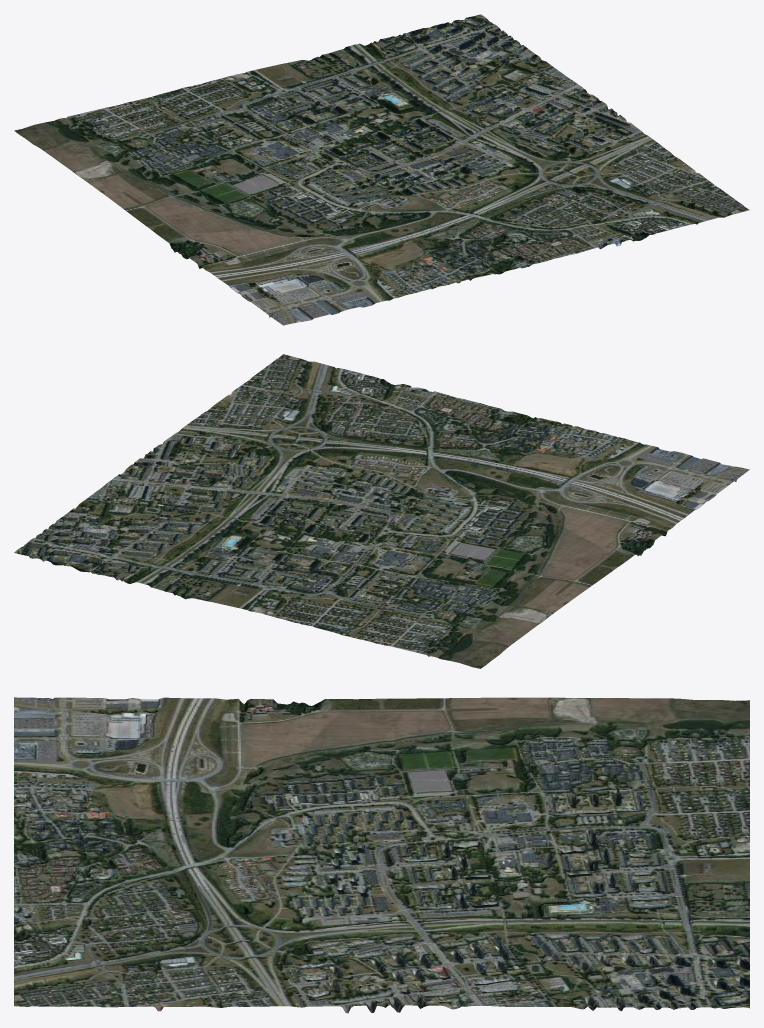
The model's file is map_10_248_425.dae.
The picture shows the model from 3 angles, top to bottom: view 1: azimuth 30°, elevation 25°; view 2: azimuth 150°, elevation 25°; view 3: azimuth 270°, elevation 25°; orthographic projection. The views are drawn at different scales.
Visible parts, largest first — view 1: Ter0; view 2: Ter0; view 3: Ter0.
Boxes of the visible parts, x1,y1,x2,y2 form: Ter0: [14, 14, 749, 325]; Ter0: [14, 354, 749, 668]; Ter0: [14, 697, 749, 1013].
Bounding box in the file's own units: 2044 × 2044 × 59.73.
Materials: 3 (3 with a texture image).
